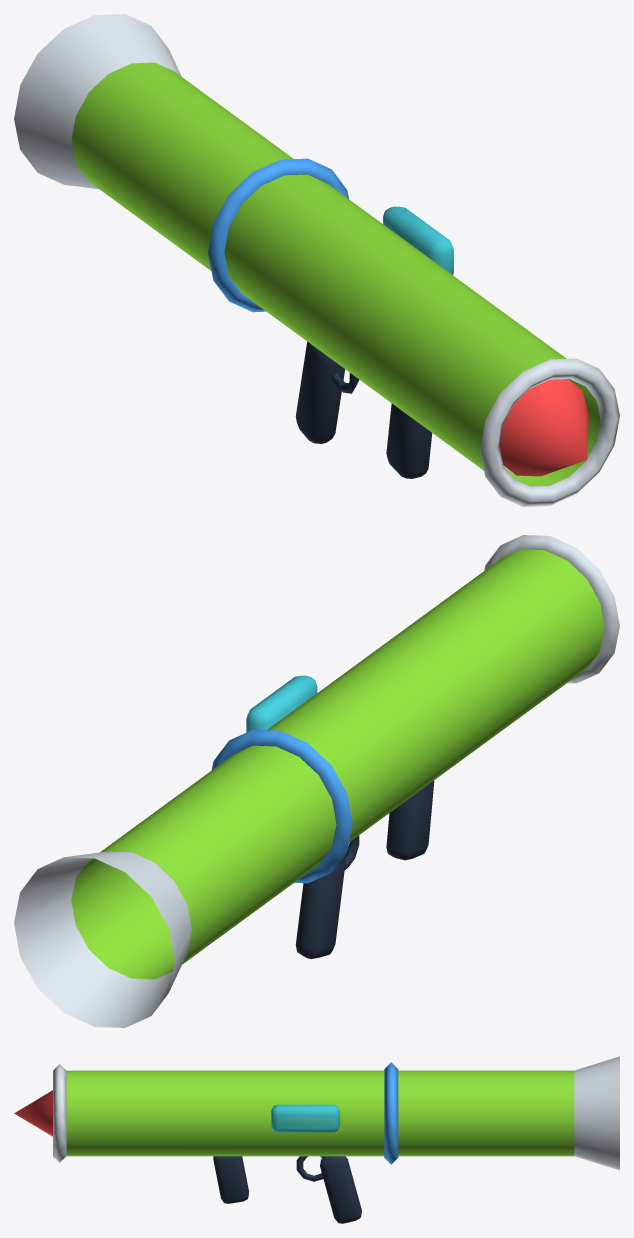
Rendered from RocketLauncher.fbx.
3 renders of one model, top to bottom at view 1: azimuth 30°, elevation 25°; view 2: azimuth 150°, elevation 25°; view 3: azimuth 270°, elevation 25°, orthographic. The views are drawn at different scales.
Parts seen in each view (by area): view 1: RocketLauncher; view 2: RocketLauncher; view 3: RocketLauncher.
Boxes of the visible parts, <box> form: RocketLauncher: <box>14,14,619,506</box>; RocketLauncher: <box>14,535,619,1027</box>; RocketLauncher: <box>14,1056,619,1223</box>.
Bounding box in the file's own units: 0.2 × 0.3107 × 1.06.
